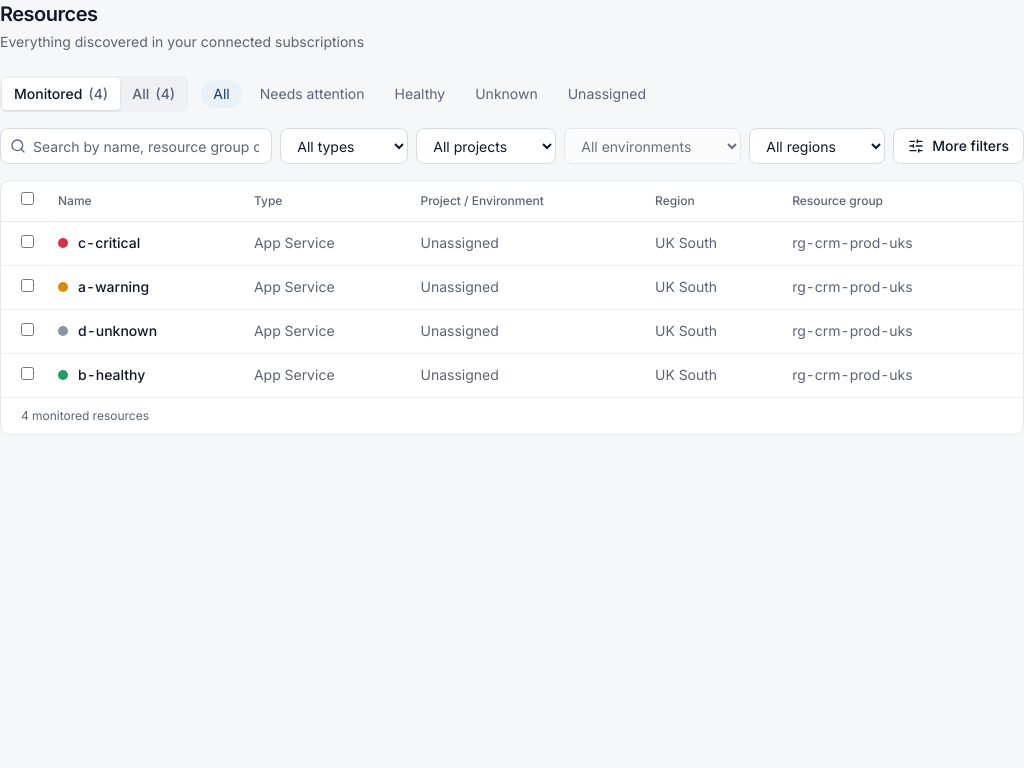
Test: Resources page › lists attention first and bulk-assigns selected resources
The image size is (1024, 768).
Step 1. Click the checkbox named "Select c-critical" → (28, 242), box [21, 235, 34, 248]
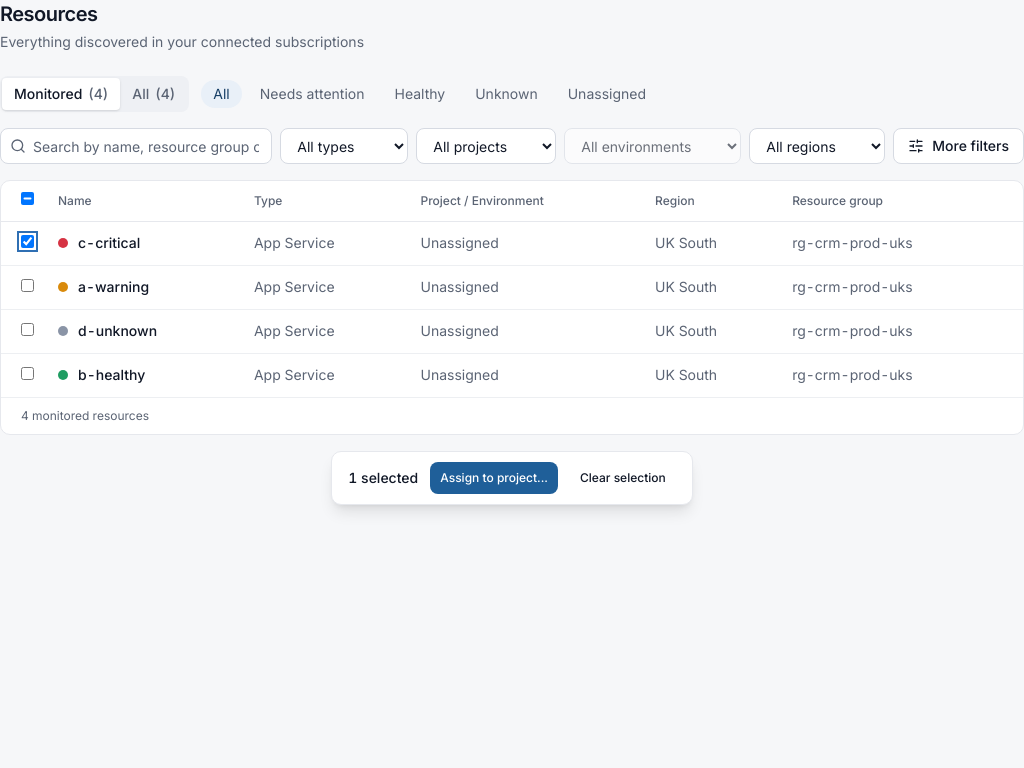
Step 2. Click the checkbox named "Select a-warning" → (28, 286), box [21, 279, 34, 292]
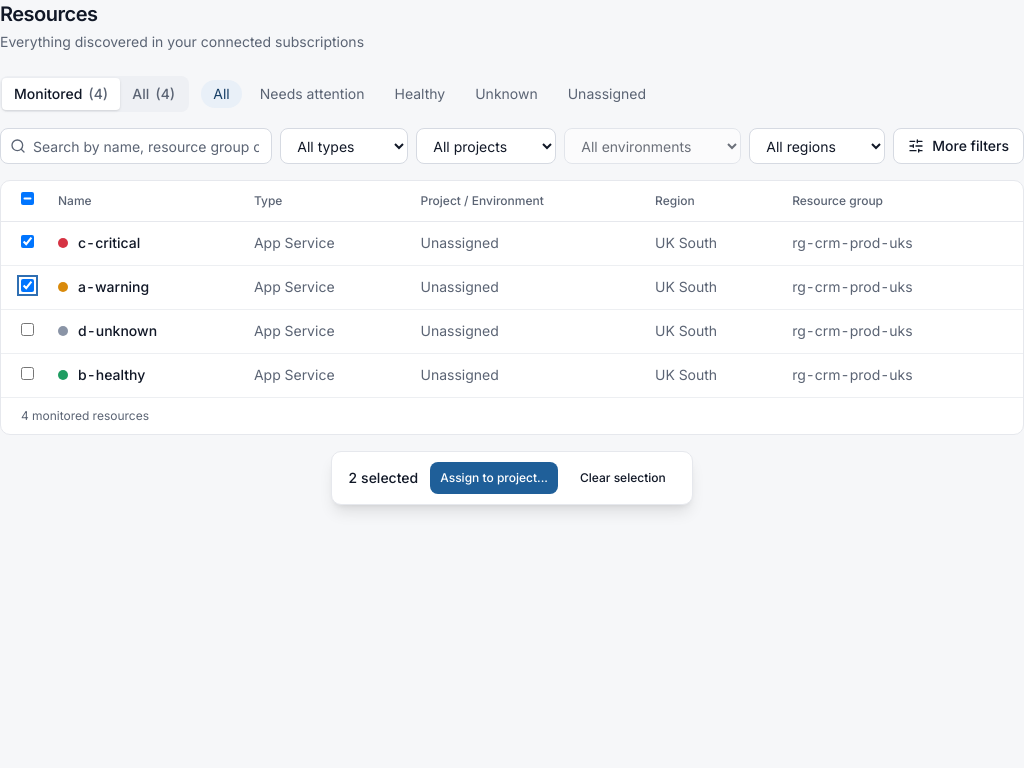
Result: the element named "Bulk actions" shows "2 selected" at [331, 451, 693, 505]
Step 3. Click the button "Assign to project..." → (494, 478), box [430, 462, 558, 494]
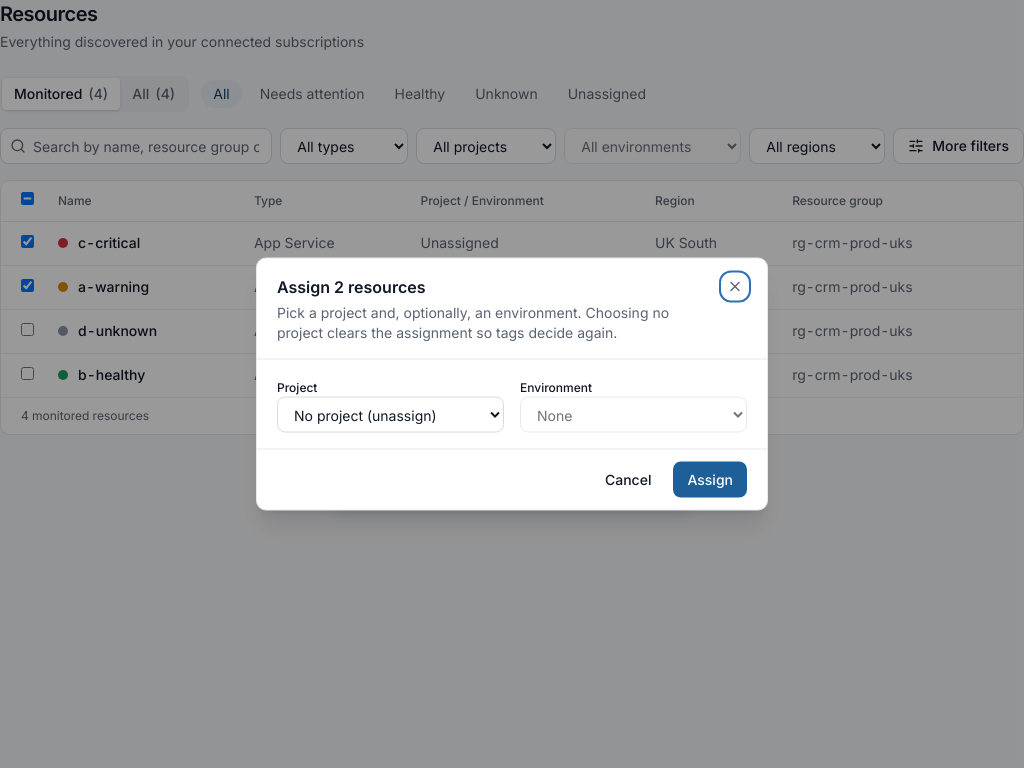
Step 4. Select "CRM" in the dropdown labelled "Project" → (390, 414), box [277, 396, 504, 432]
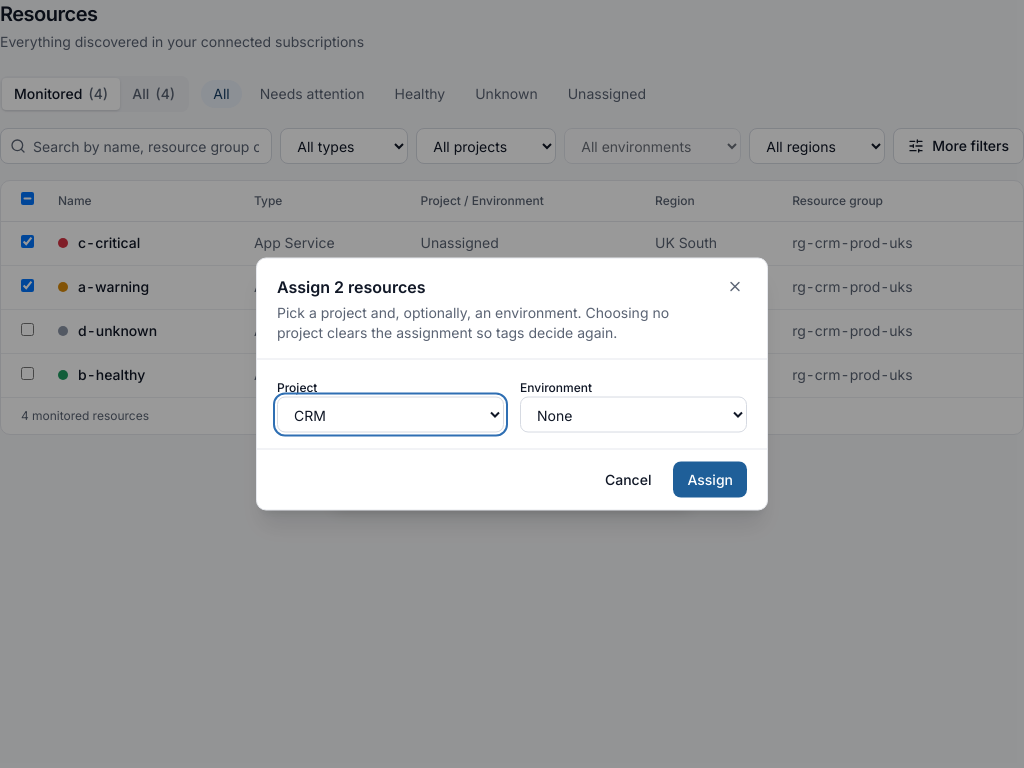
Step 5. Select "Production" in the dropdown labelled "Environment" → (634, 414), box [520, 396, 747, 432]
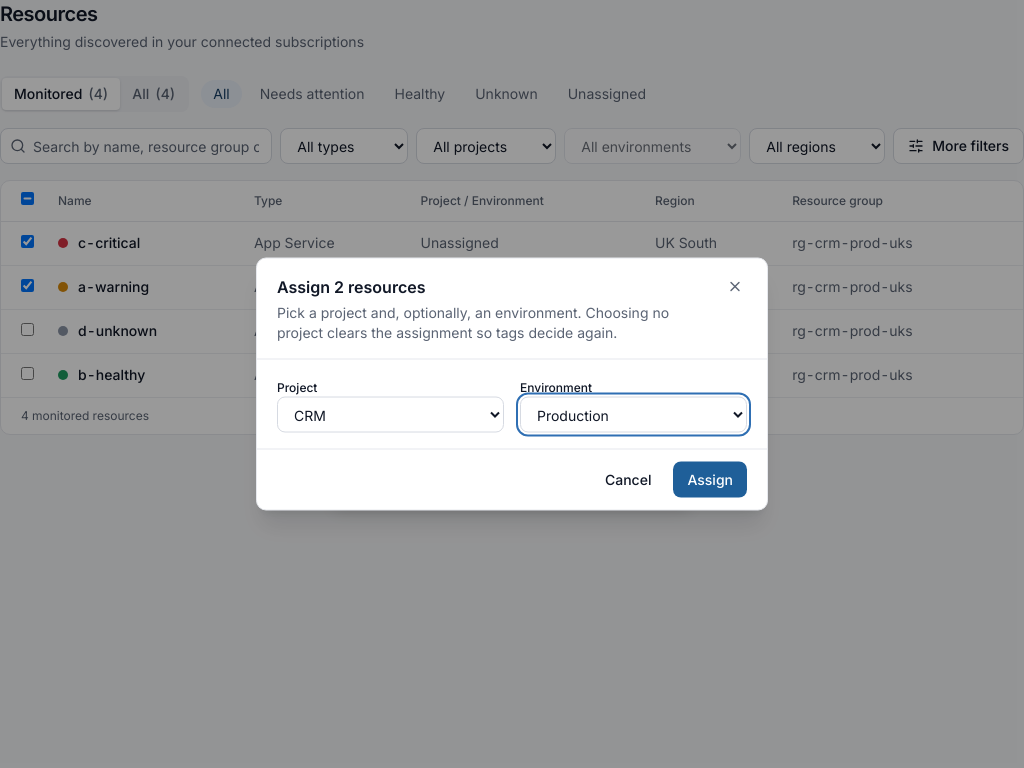
Step 6. Click the button "Assign" → (710, 480), box [673, 462, 747, 498]
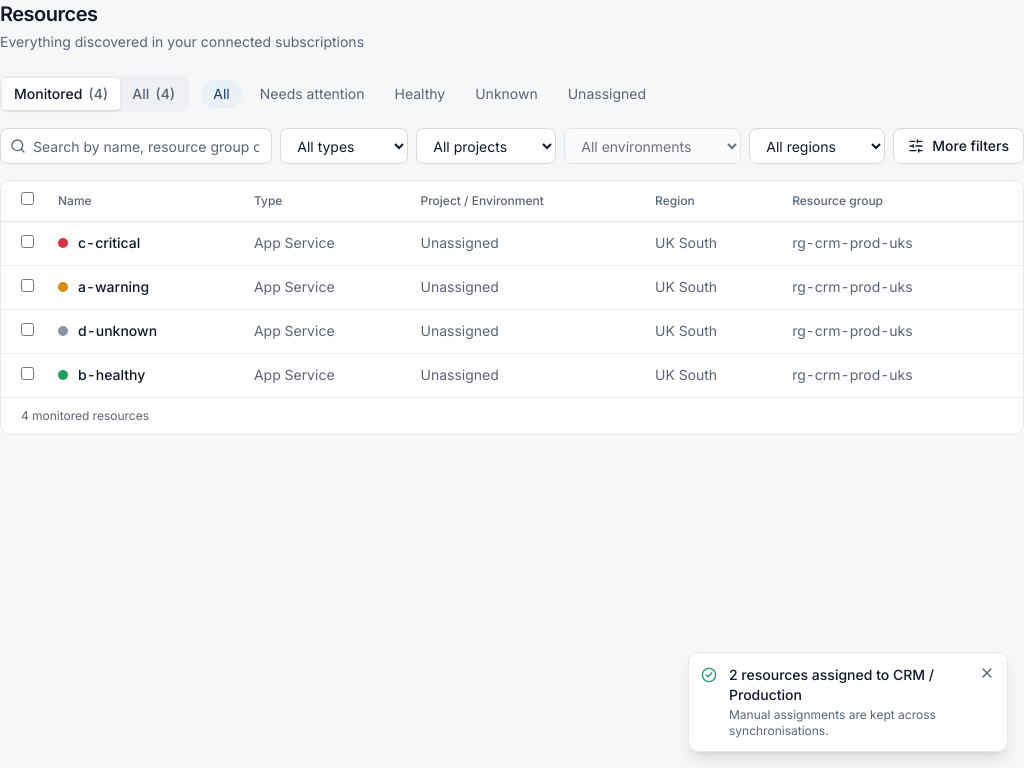
Result: the text "2 resources assigned to CRM / Production" is shown at [729, 665, 967, 705]
